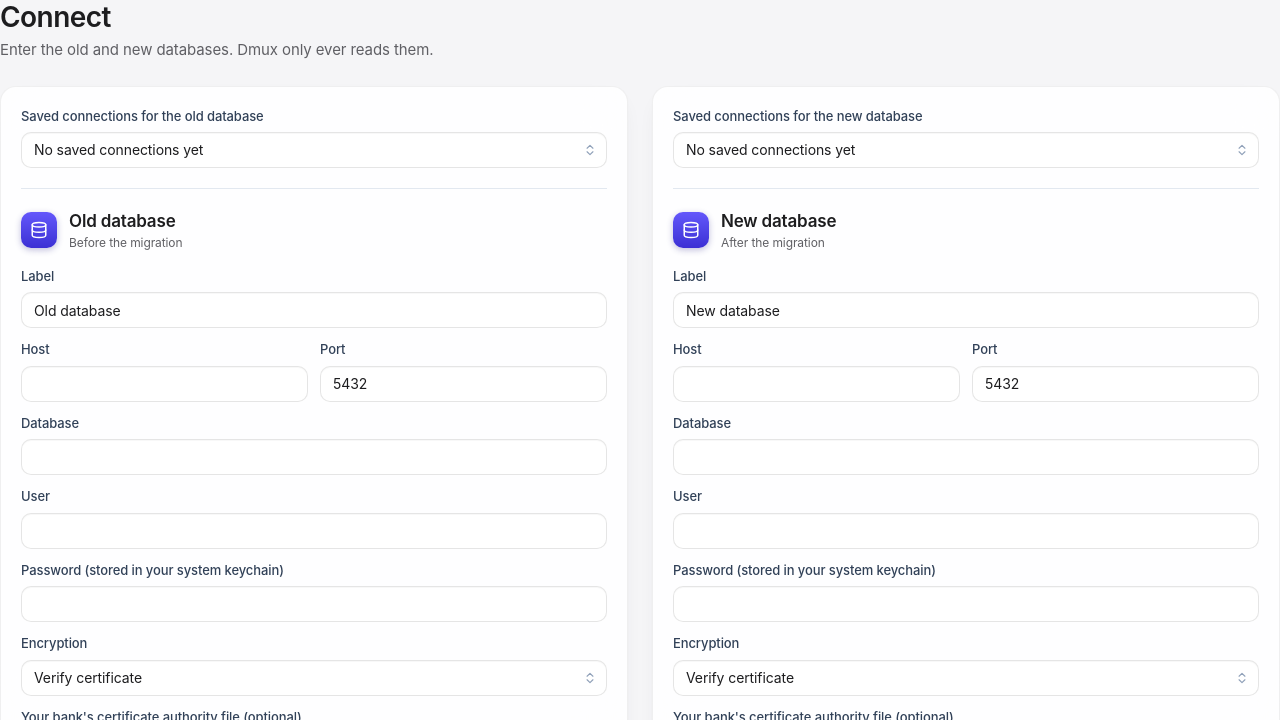
Test: Connect screen: saved connections › does not save a connection whose test failed
Type "error" into the field with test id "Old database-host" at (164,384), box [21,366,308,402]
(page scrolled)
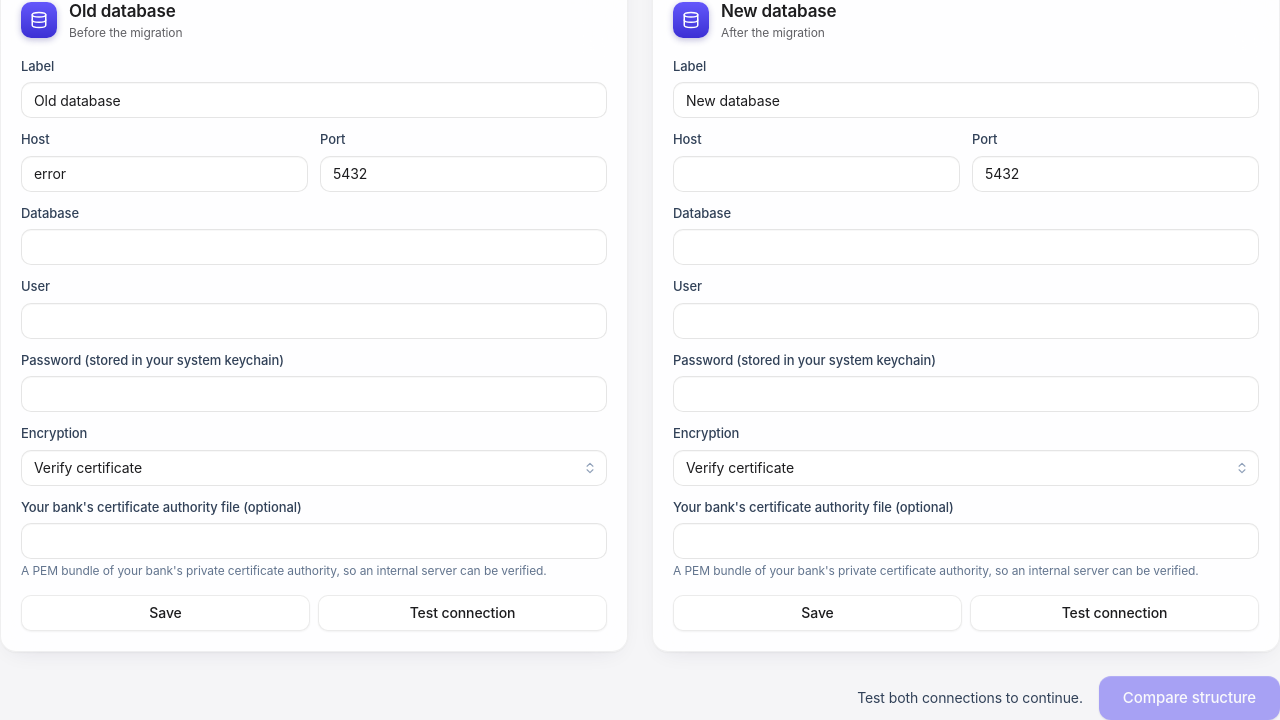
Click the 1st button "Test connection" at (462,613), box [318,595,607,631]
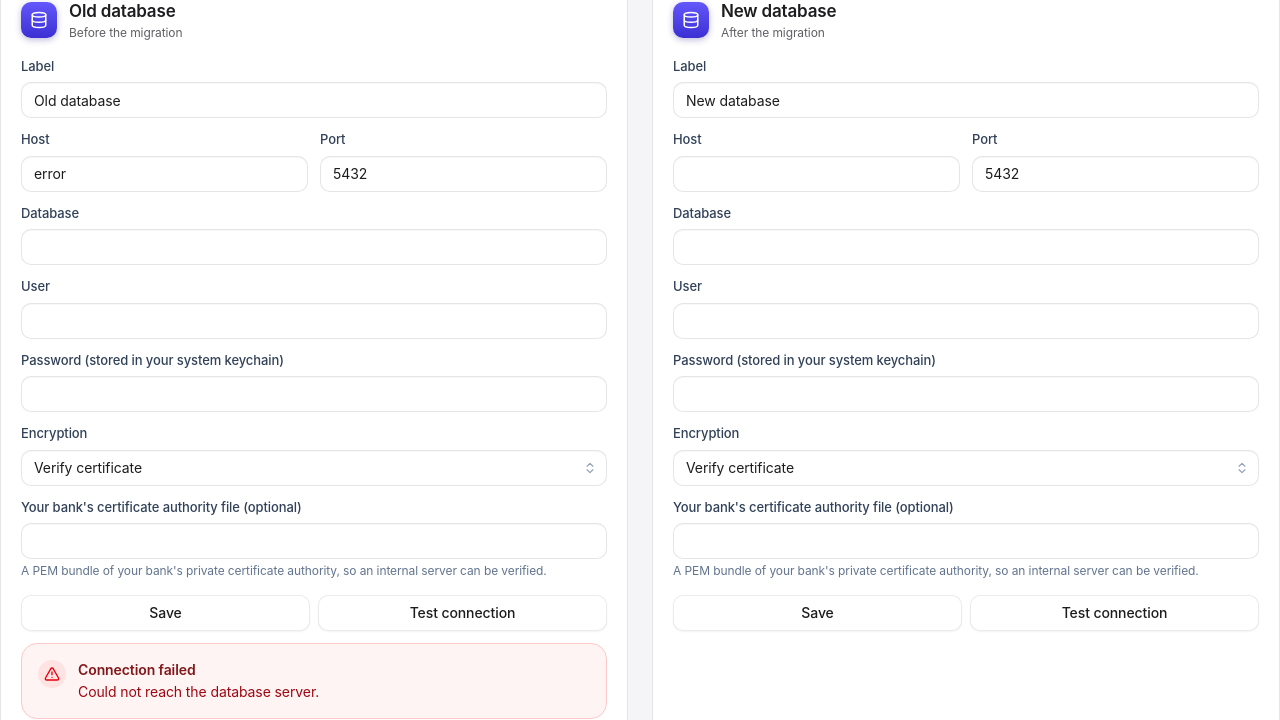
Check: the heading "Connection failed" is shown, box [78,661,196,678]
